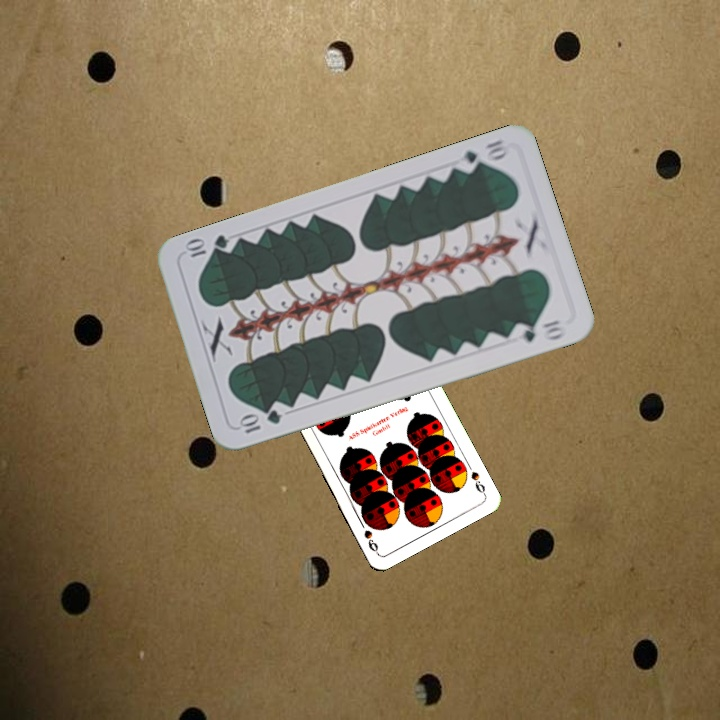G10: (455, 135, 510, 176), (235, 406, 284, 436)
S9: (467, 467, 489, 498)
